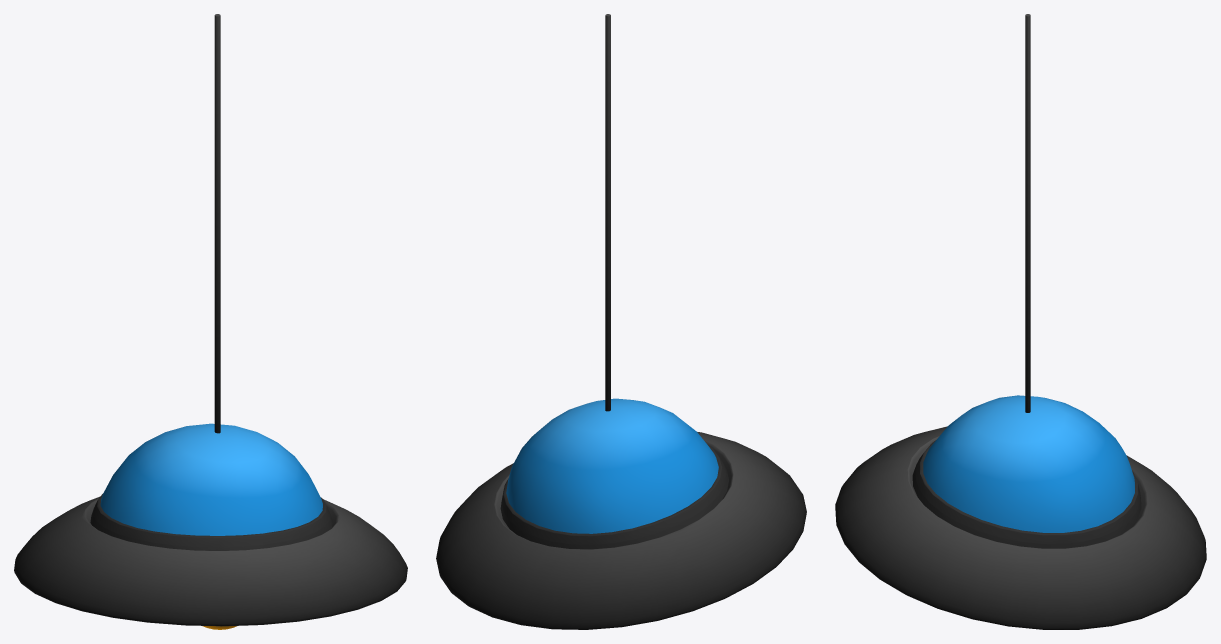
The model's file is UFO.fbx.
3 views of the same model, side by side, from view 1: azimuth 30°, elevation 25°; view 2: azimuth 150°, elevation 25°; view 3: azimuth 270°, elevation 25° (orthographic). The views are drawn at different scales.
Parts seen in each view (by area): view 1: UFO; view 2: UFO; view 3: UFO.
Boxes of the visible parts, box(x1,y1,x2,y2) form: UFO: box(14, 14, 407, 629); UFO: box(436, 14, 806, 629); UFO: box(835, 14, 1206, 629).
Size of the model in its own units: 341 by 564 by 339.
